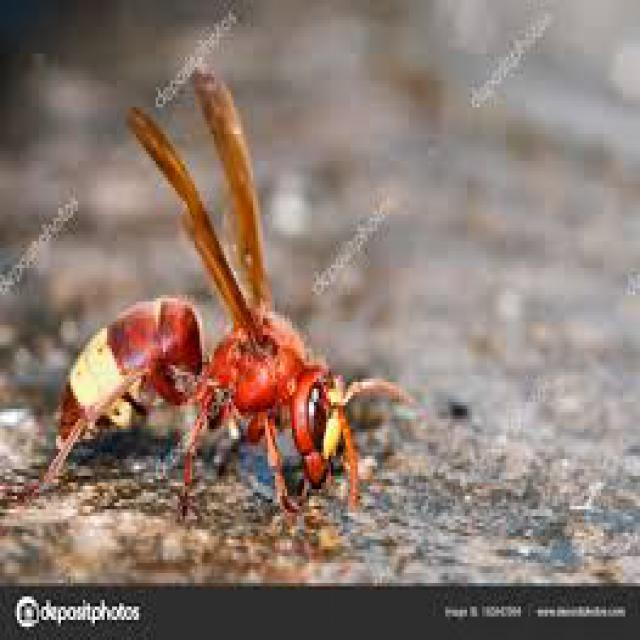Vespa Orientalis: (29, 42, 420, 551)
